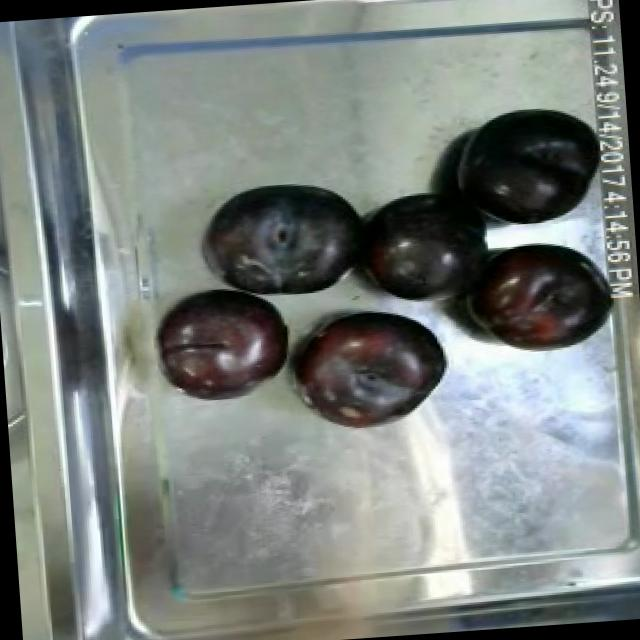Fruit: (276, 293, 459, 441), (189, 168, 375, 302), (451, 228, 614, 366), (442, 98, 606, 235), (348, 180, 505, 316), (147, 276, 300, 408)
